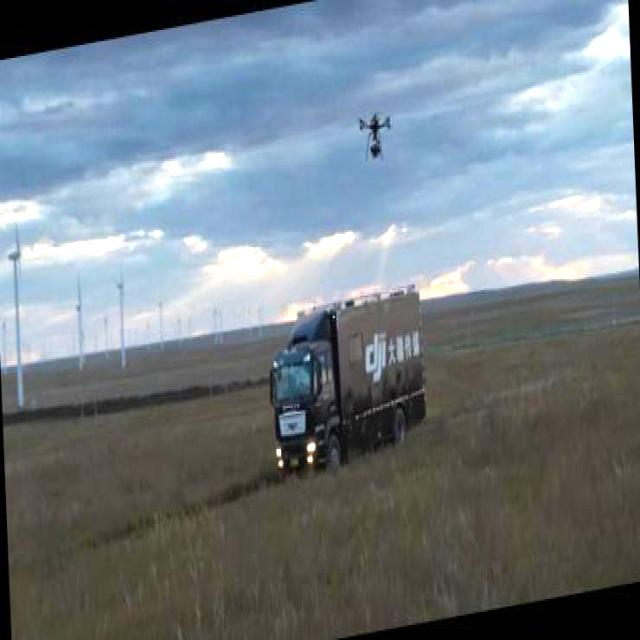drone: (356, 96, 394, 170)
